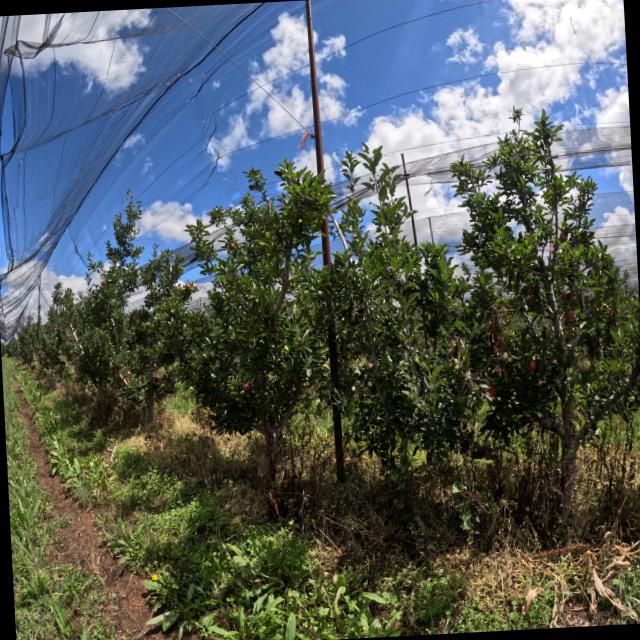-FireBlight-: (482, 304, 515, 380), (446, 333, 470, 373), (479, 385, 496, 402)
